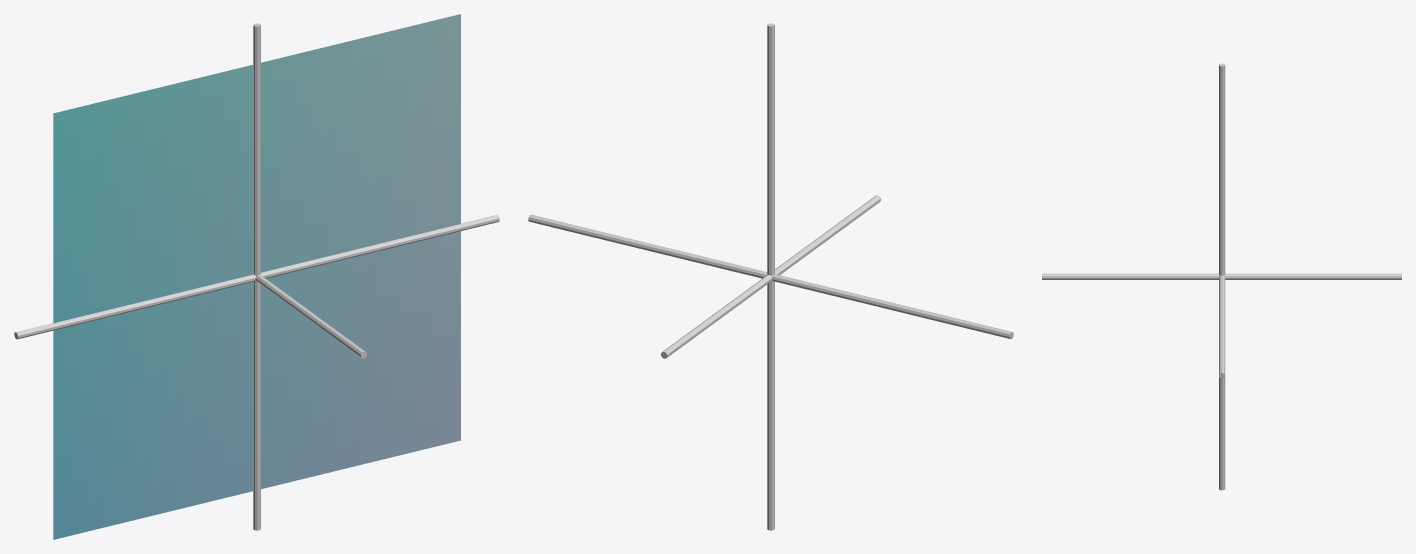
Rendered from calculo_0.glb.
3 views of the same model, side by side, from view 1: azimuth 30°, elevation 25°; view 2: azimuth 150°, elevation 25°; view 3: azimuth 270°, elevation 25° (orthographic). The views are drawn at different scales.
Visible parts, largest first — view 1: calculo_0.glb_0, calculo_0.glb_1, calculo_0.glb_2, calculo_0.glb_3; view 2: calculo_0.glb_1, calculo_0.glb_2, calculo_0.glb_3; view 3: calculo_0.glb_3, calculo_0.glb_2, calculo_0.glb_1.
Part boxes in pixels (bbox=[...]): calculo_0.glb_0: bbox=[53, 14, 460, 539]; calculo_0.glb_1: bbox=[14, 214, 499, 339]; calculo_0.glb_2: bbox=[253, 23, 260, 530]; calculo_0.glb_3: bbox=[255, 275, 367, 358]; calculo_0.glb_1: bbox=[528, 214, 1013, 339]; calculo_0.glb_2: bbox=[767, 23, 774, 530]; calculo_0.glb_3: bbox=[661, 195, 880, 358]; calculo_0.glb_3: bbox=[1042, 273, 1401, 279]; calculo_0.glb_2: bbox=[1219, 63, 1225, 490]; calculo_0.glb_1: bbox=[1219, 275, 1225, 378].
Size of the model in its own units: 1.3 by 1.3 by 1.
